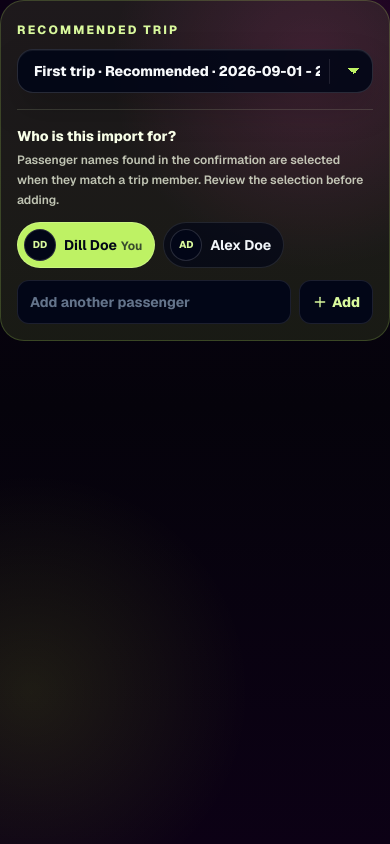
Test case: trip-aware import traveler selection › updates the available traveler choices when the destination trip changes
Select "Second trip · 2026-10-01 - 2026-10-05" in the dropdown. click: (195, 71)
box: [17,49,373,93]
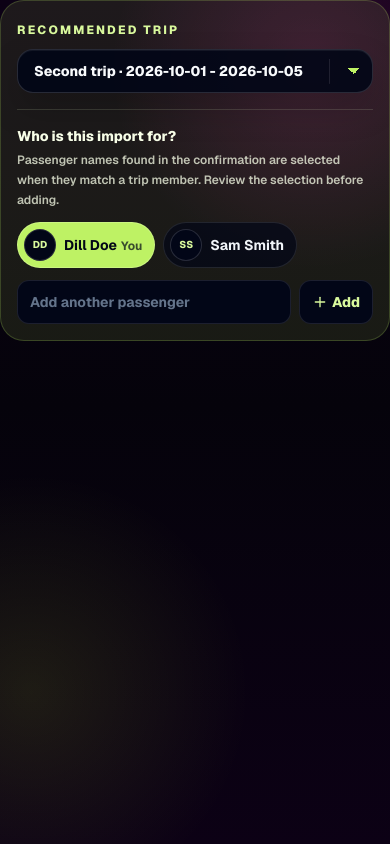
Expected: the button "SS Sam Smith" is shown, [163,222,297,268]
Expected: the button "Alex Doe" is gone
